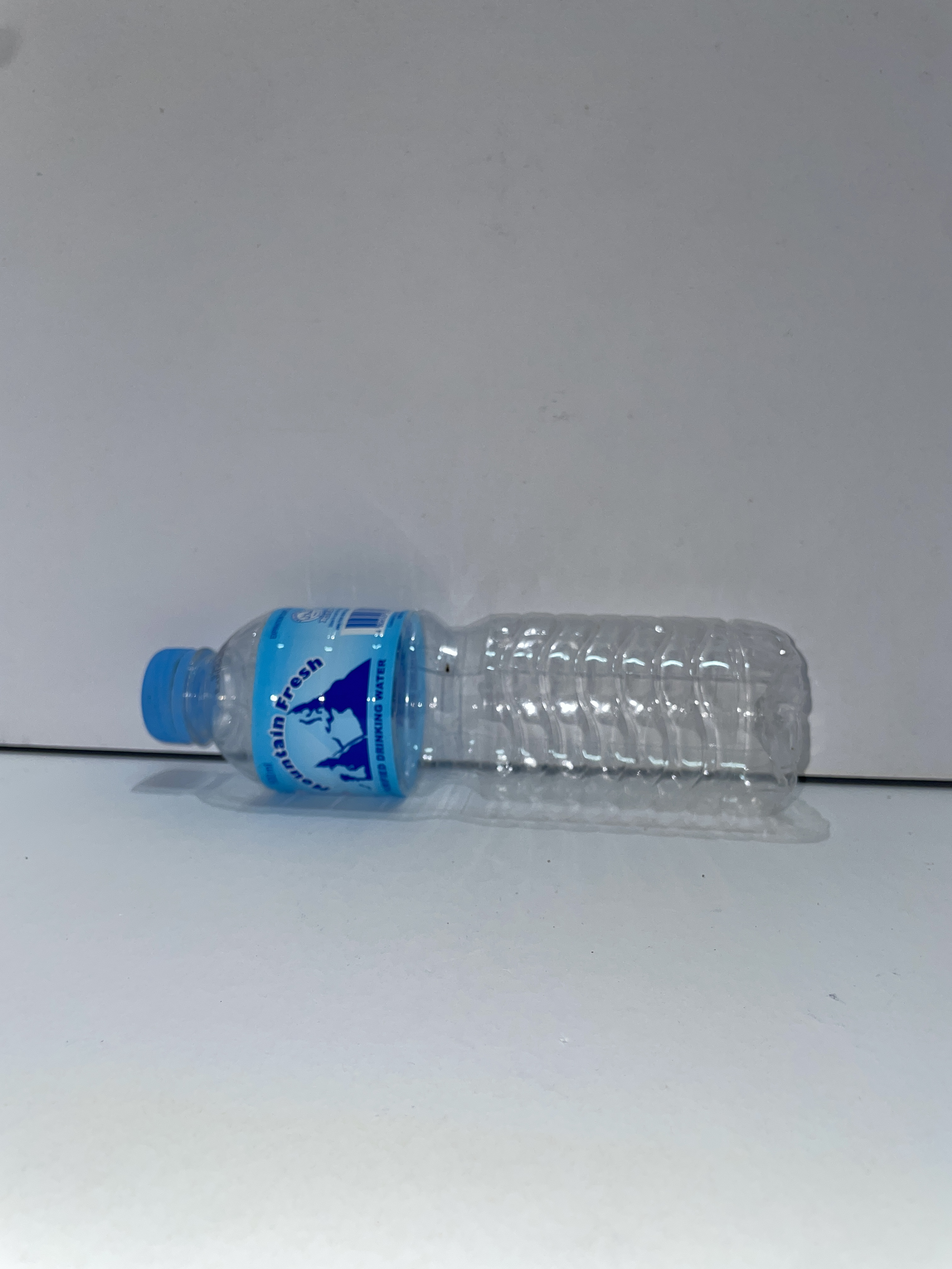Mountain Fresh 500ml: (141, 608, 810, 823)
